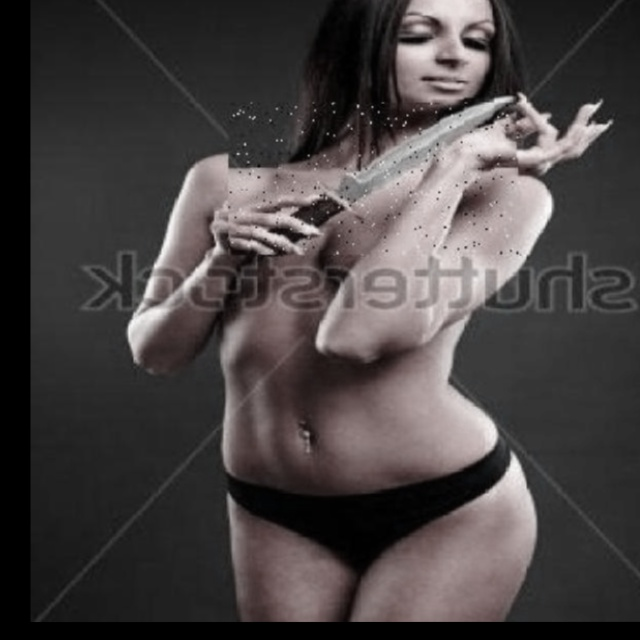Sharp-Object: (228, 101, 521, 255)
